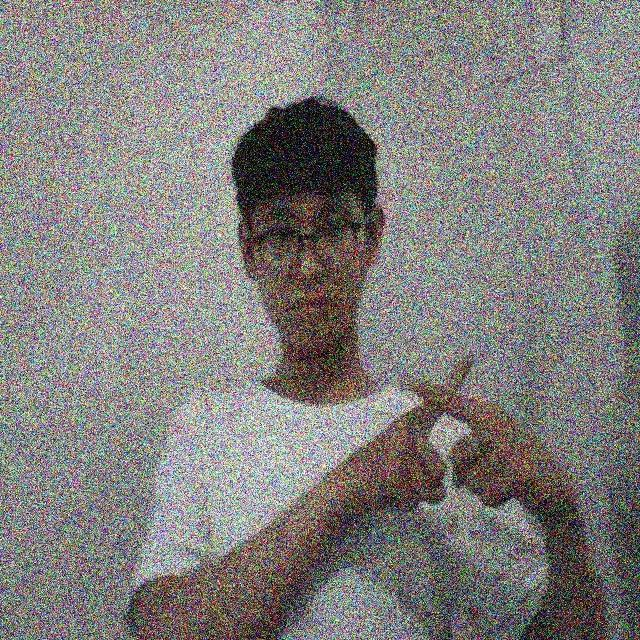X: (364, 345, 532, 502)
